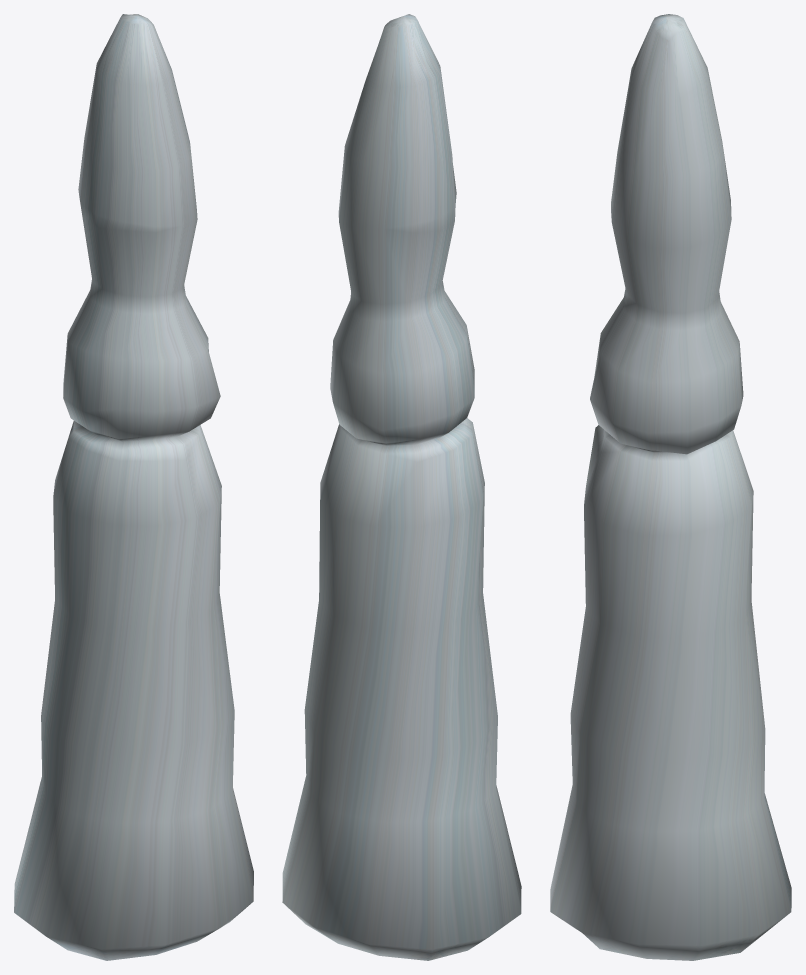
The model's file is P_RockDesert_HoodooCliff01.obj.
3 views of the same model, side by side, from view 1: azimuth 30°, elevation 25°; view 2: azimuth 150°, elevation 25°; view 3: azimuth 270°, elevation 25° (orthographic).
Bounding box in the file's own units: 13.04 × 54.75 × 13.04.
